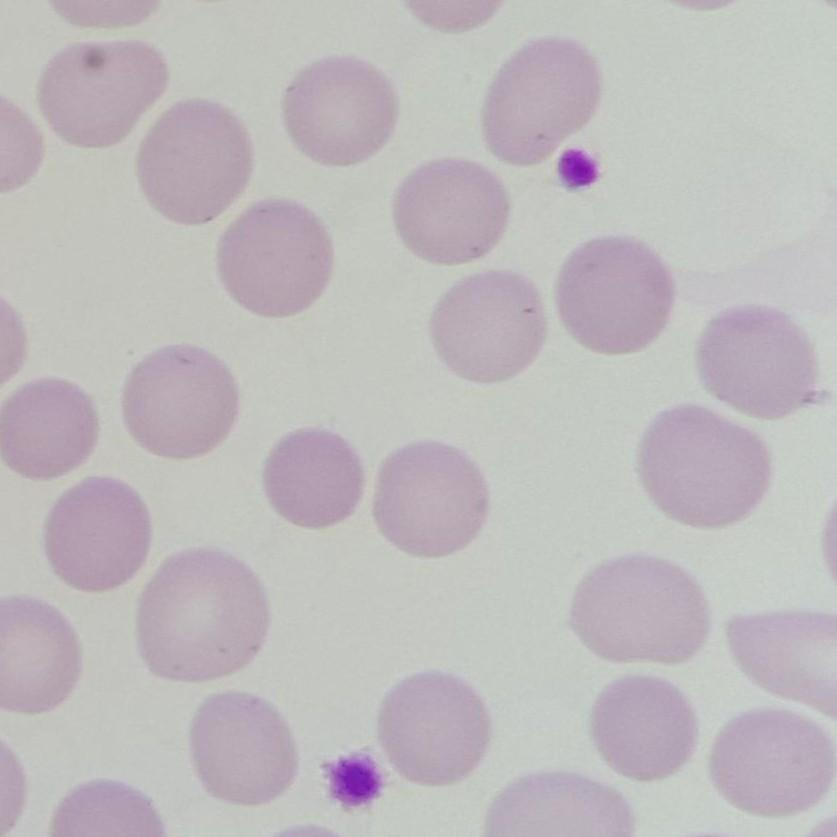Uninfected: (132, 547, 264, 684), (642, 401, 769, 535), (568, 552, 711, 667), (485, 36, 597, 171), (215, 197, 336, 317), (138, 96, 248, 224), (708, 707, 836, 815), (698, 304, 815, 422), (40, 37, 165, 147), (557, 237, 671, 354), (378, 671, 491, 785), (375, 444, 489, 556), (127, 344, 237, 459), (190, 694, 301, 807), (435, 271, 544, 381), (285, 57, 395, 164), (397, 161, 508, 265), (48, 477, 147, 593), (595, 672, 694, 783), (0, 592, 84, 718), (262, 427, 359, 529), (5, 377, 99, 481)
